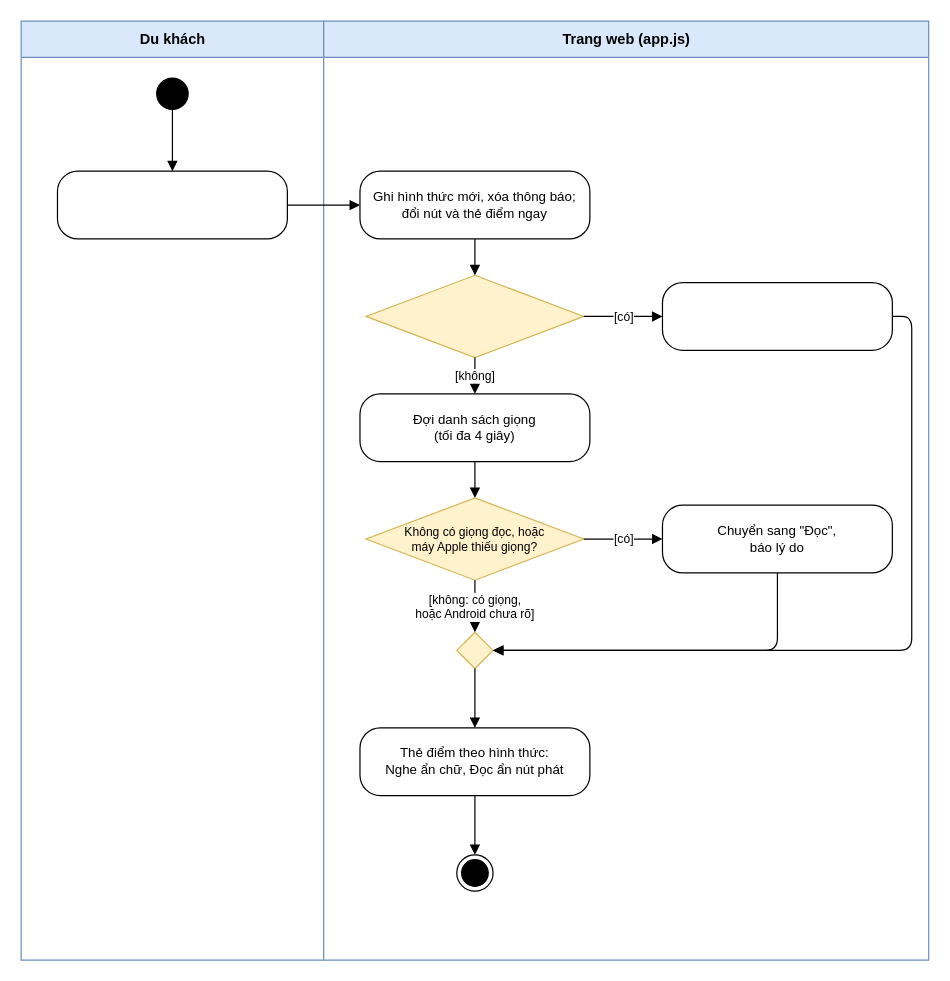
Some shapes in this 950 by 981 pixel diagram are drawn without their labels. Here are the shapes that lost their labels. From the top down, the centre of each, then its label:
point (171, 204): Chọn "Nghe", "Đọc" hoặc "Cả hai"
point (474, 316): Chọn "Đọc"?
point (776, 315): Dừng âm thanh đang phát
